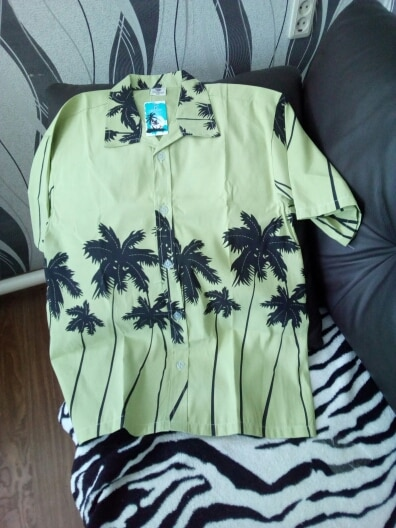shirts: (31, 85, 356, 439)
